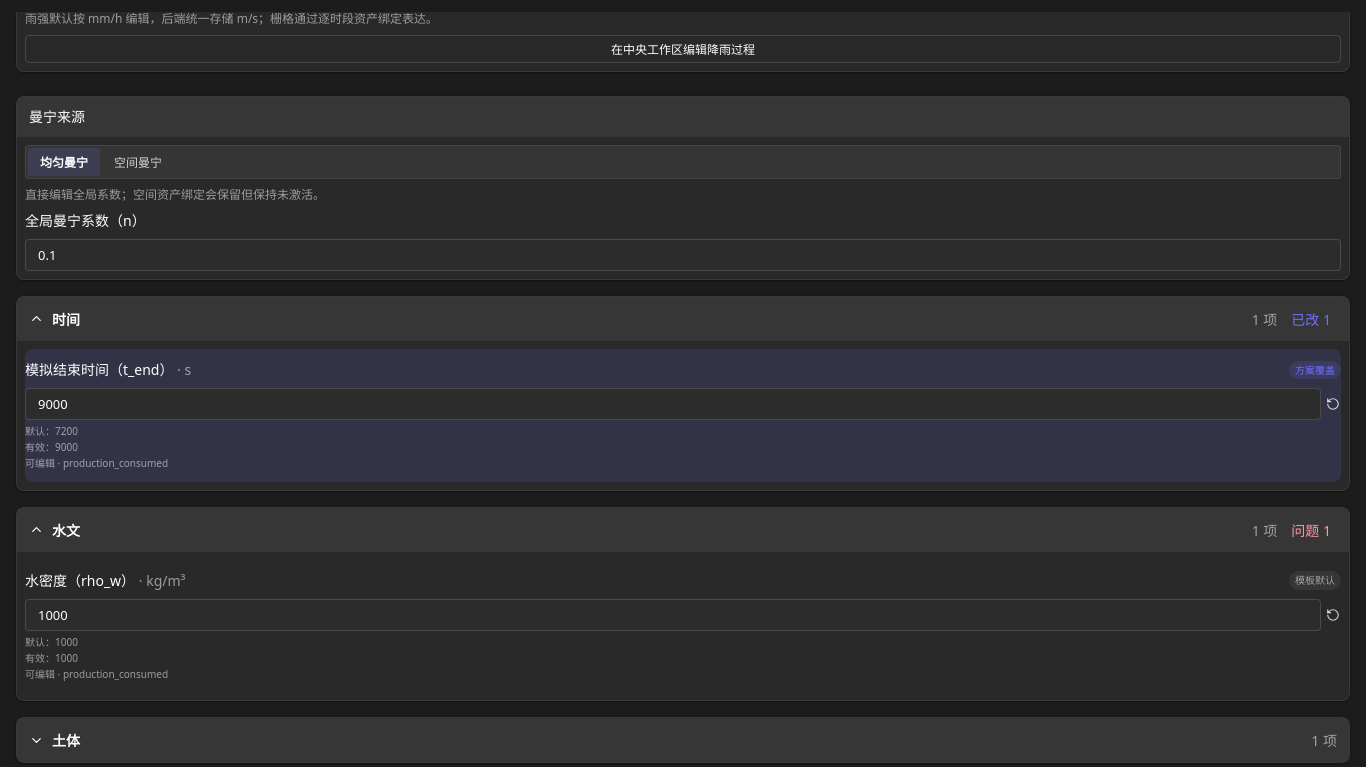
it: ParameterModule grouped inspector › keeps normal field geometry, auto-opens time and issue groups, and supports search
Click the button "土体 1 项". click: (36, 740)
box: [17,718,1349,762]
(page scrolled)
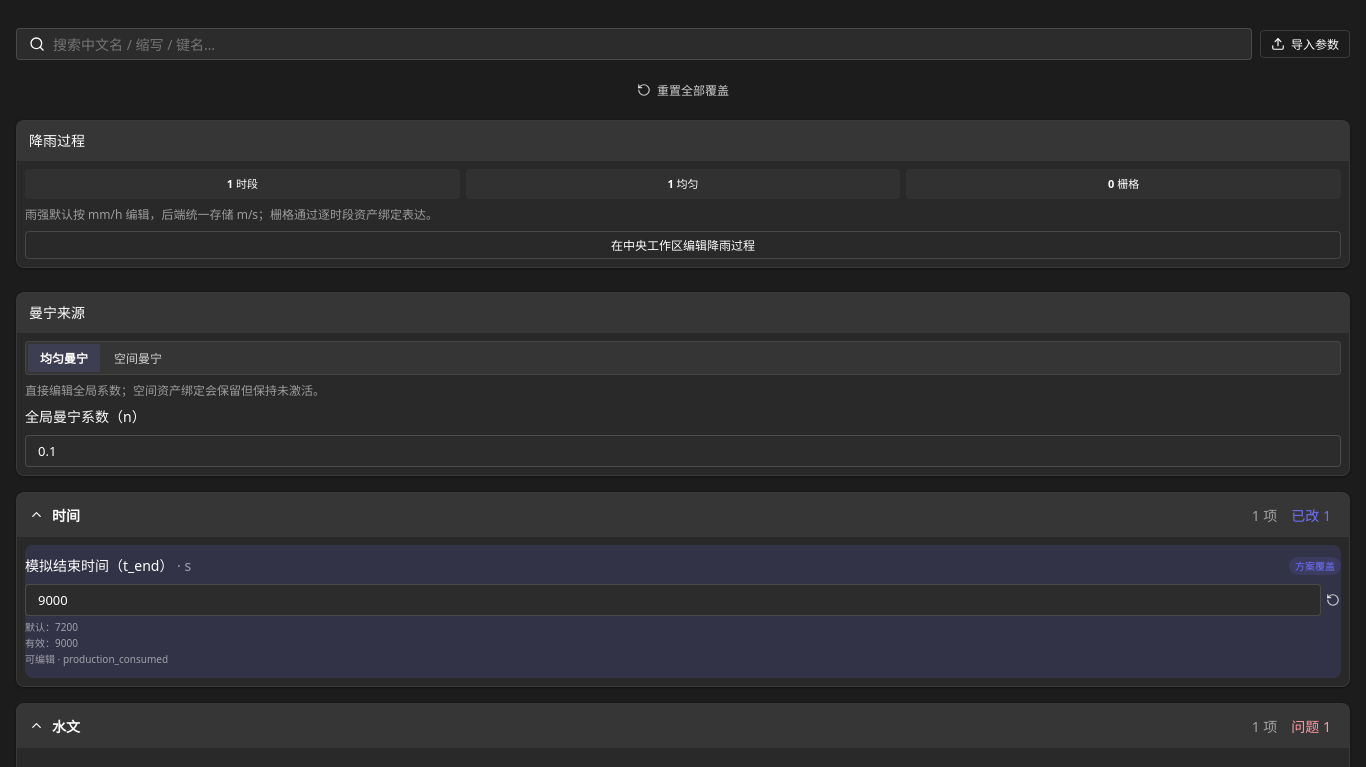
Type "土壤" into the field with placeholder "搜索中文名 / 缩写 / 键名…". click: (646, 44)
box: [53,34,1239,54]
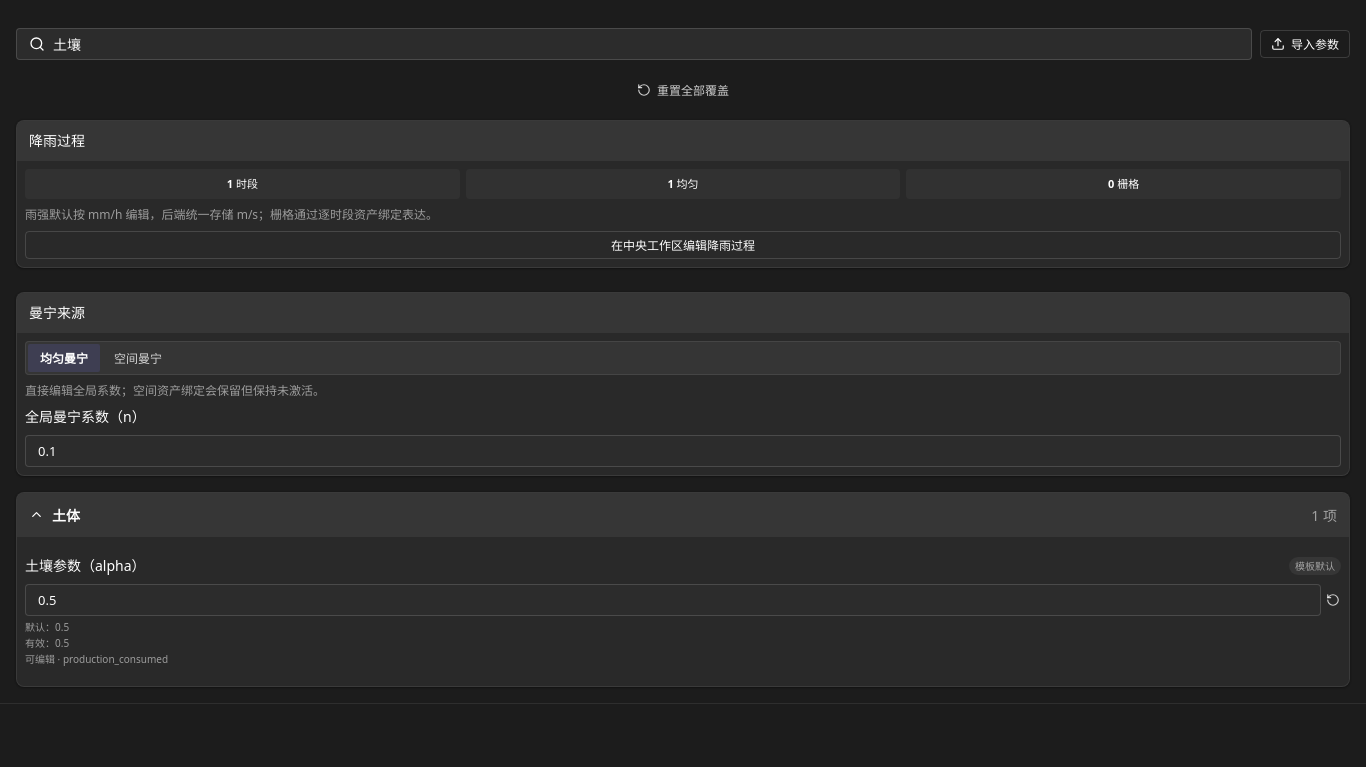
Expected: the button "土体 1 项" is expanded, [17,493,1349,537]
Expected: the number field labelled "土壤参数（alpha）" is shown, [25,584,1321,616]
Expected: the element with test id "parameter-group-time" is gone
